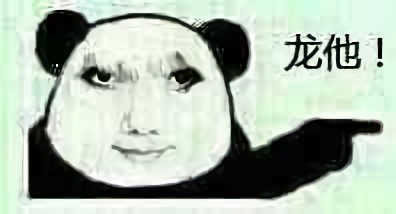dragon: (76, 51, 209, 168)
